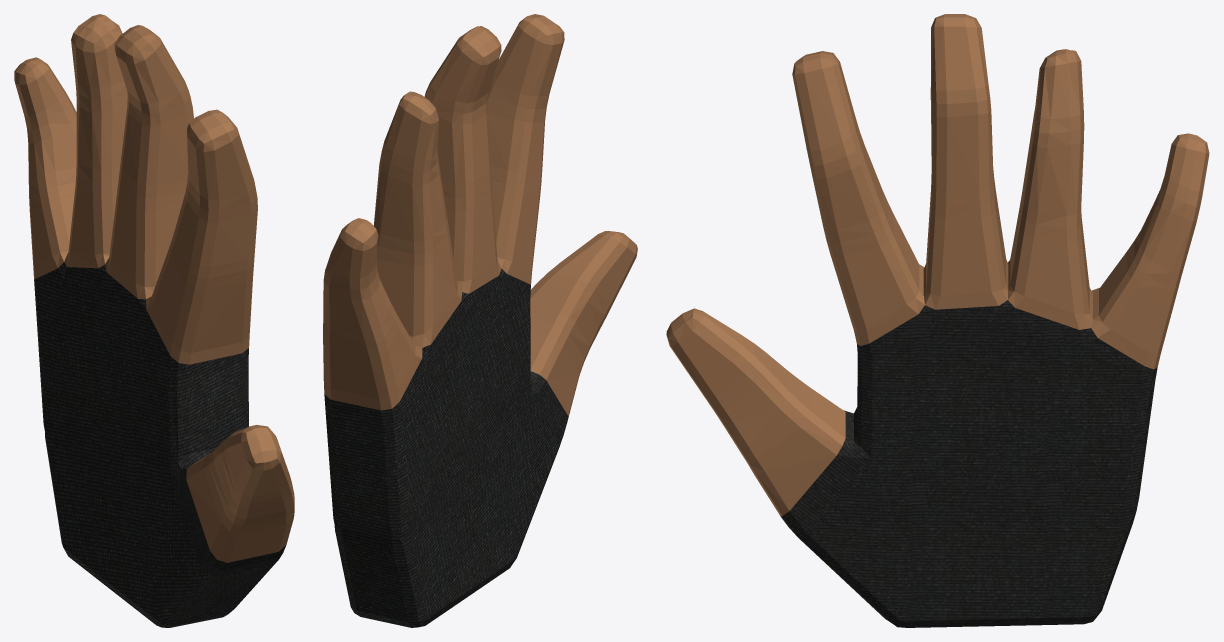
File: Hand.fbx
The picture shows the model from 3 angles, left to right: view 1: azimuth 30°, elevation 25°; view 2: azimuth 150°, elevation 25°; view 3: azimuth 270°, elevation 25°; orthographic projection. The views are drawn at different scales.
Visible parts, largest first — view 1: Cylinder; view 2: Cylinder; view 3: Cylinder.
Part boxes in pixels (x1,y1,x2,y2): Cylinder: (14,14,294,627); Cylinder: (323,14,637,627); Cylinder: (666,14,1209,627).
Bounding box in the file's own units: 28.98 × 169 × 141.
1 material, 1 textured.
